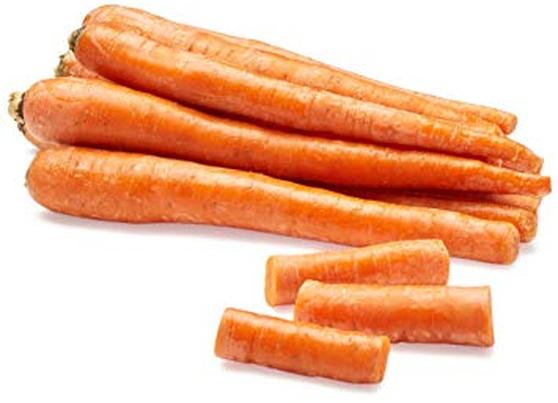carrot: (26, 68, 547, 200), (33, 145, 520, 264)
